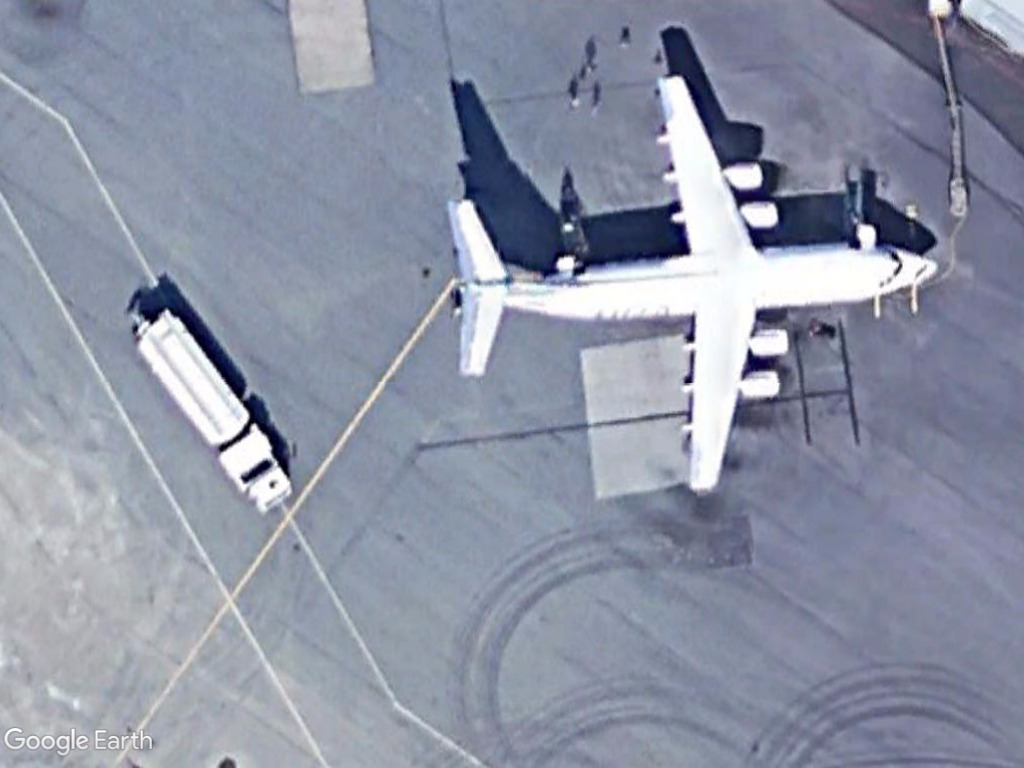airliner: (438, 71, 945, 510)
longvehicle: (126, 308, 298, 524)
